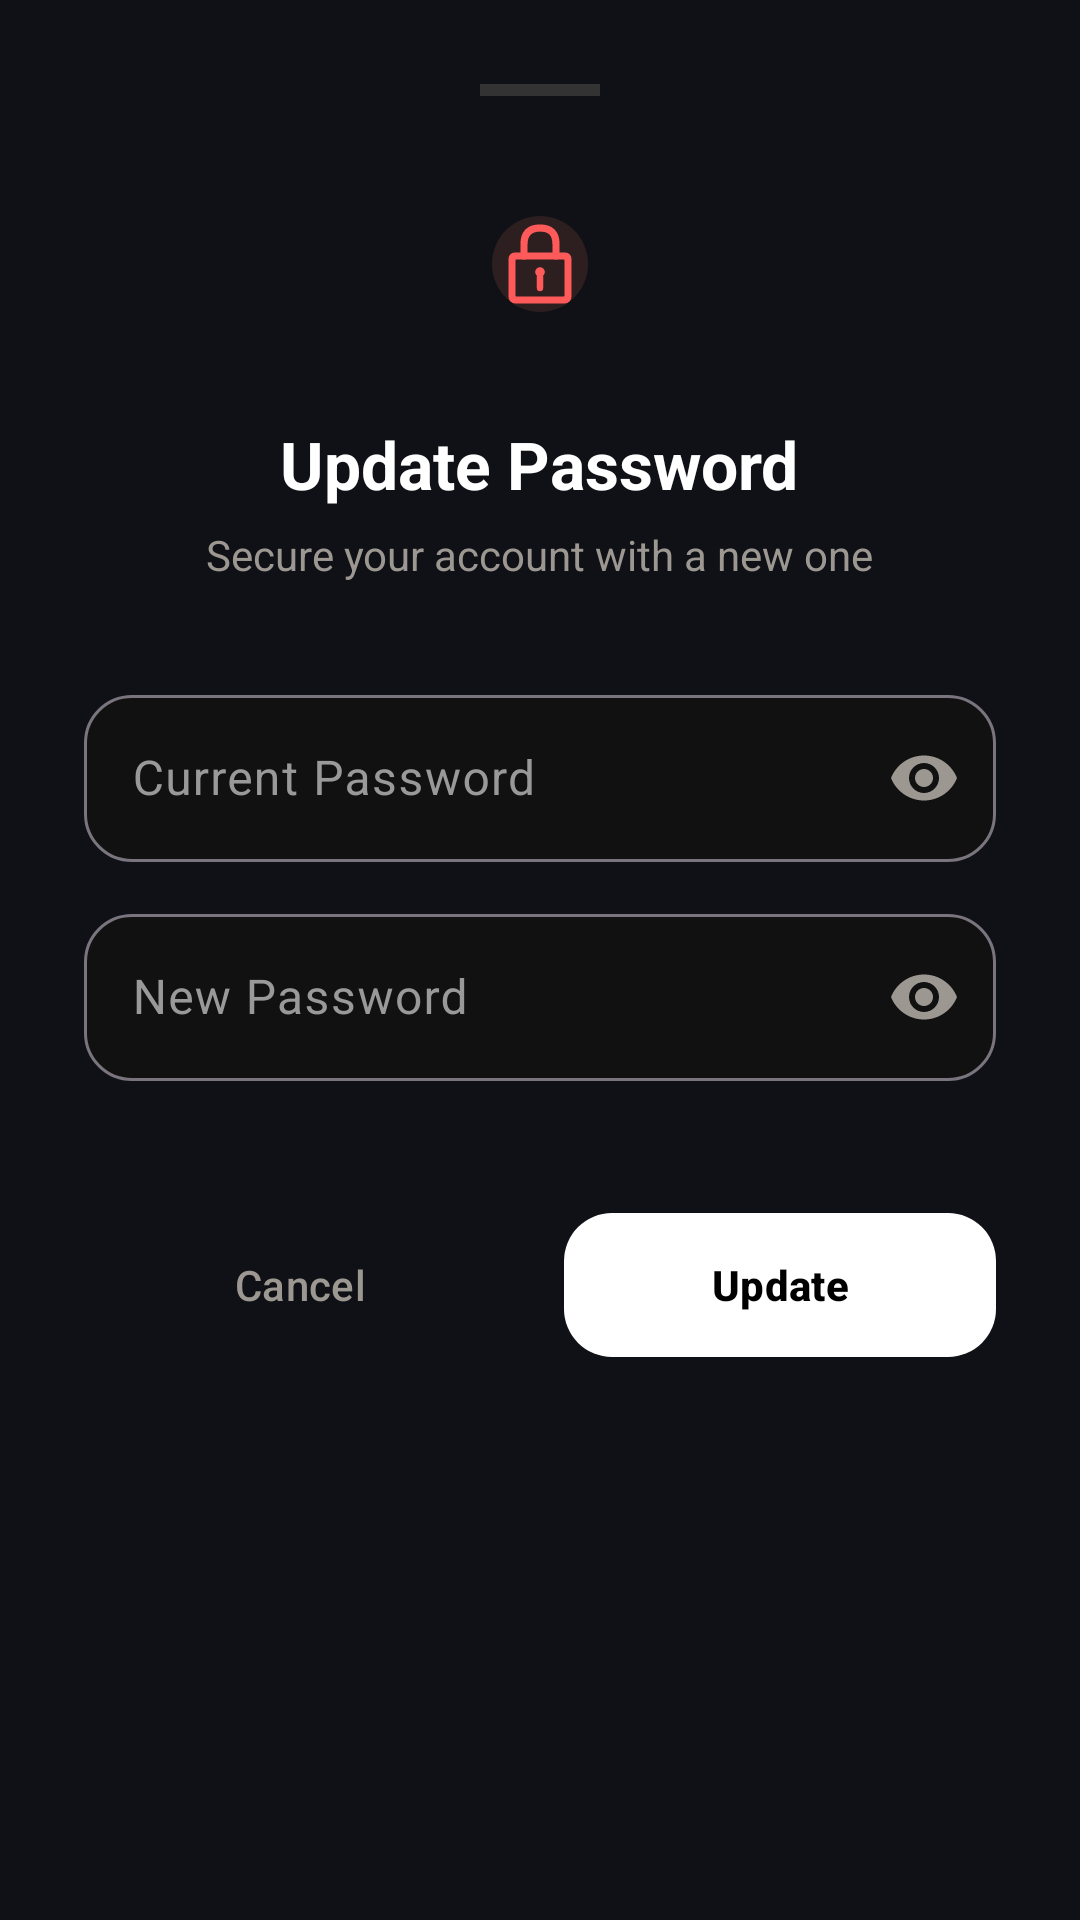

Screen size 1080px×1920px. Icon name, then its center in pixels as [x,y]:
lock: [540,264]
